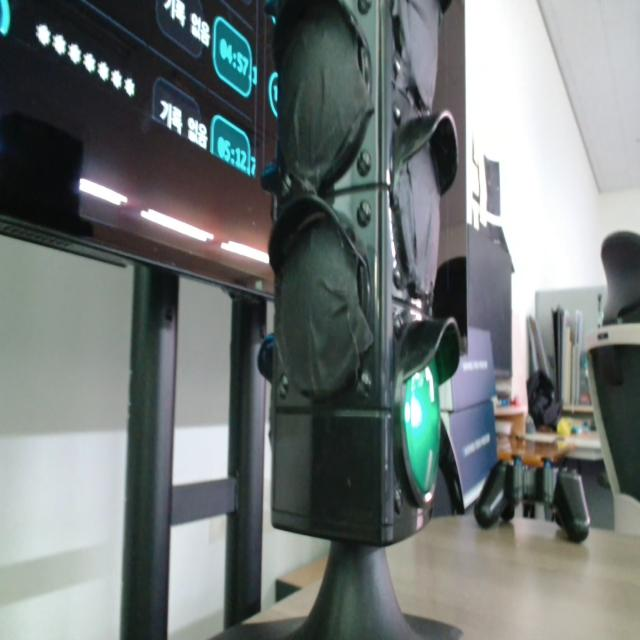green_light: (404, 362, 440, 494), (0, 0, 10, 35)
